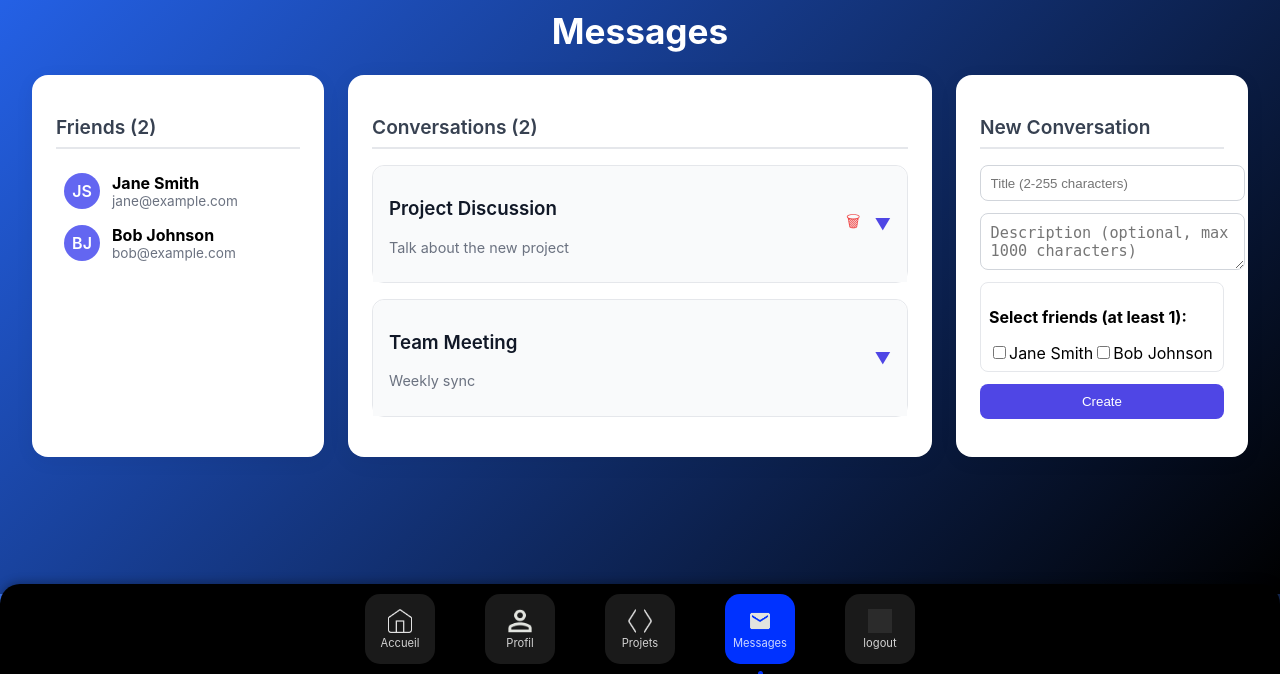
Test: Messages Component › Gestion des conversations › affiche les messages de la bonne conversation
Click the heading "Project Discussion" at (479, 209), box [389, 197, 569, 220]
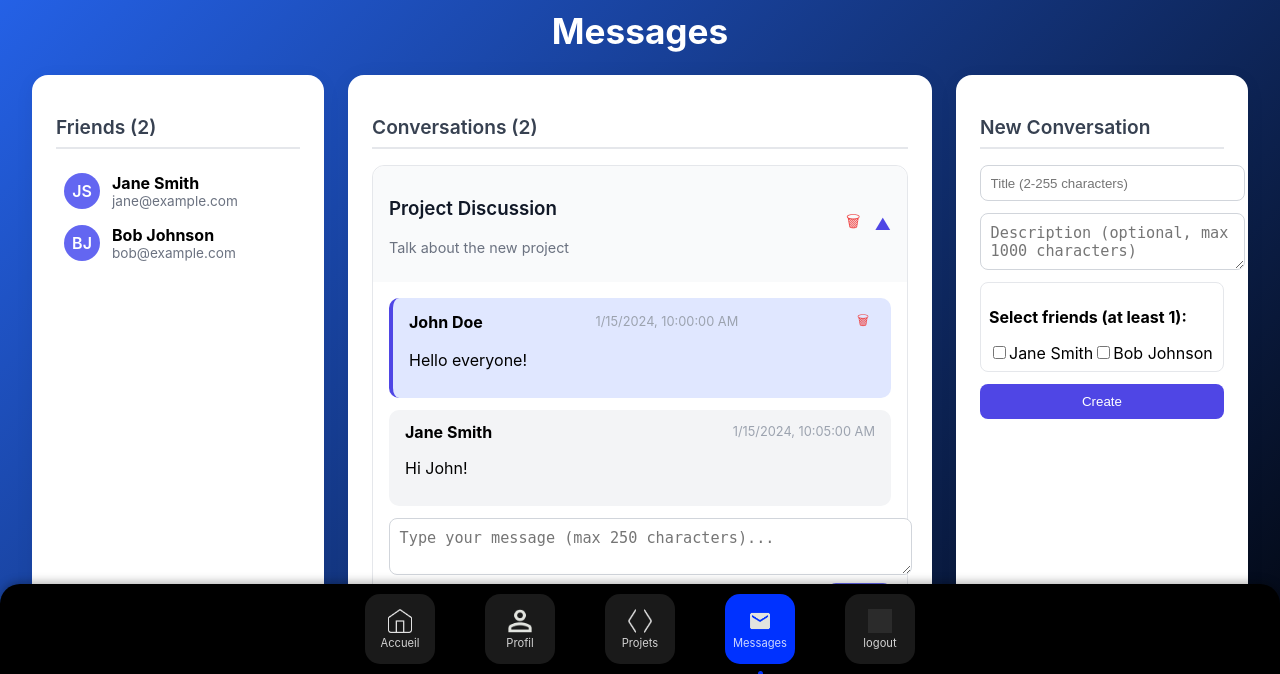
expect the text "See you tomorrow" is not shown: met
expect the text "Hello everyone!" is shown: met, box [409, 350, 527, 370]
expect the text "Hi John!" is shown: met, box [405, 458, 468, 478]
Scroll
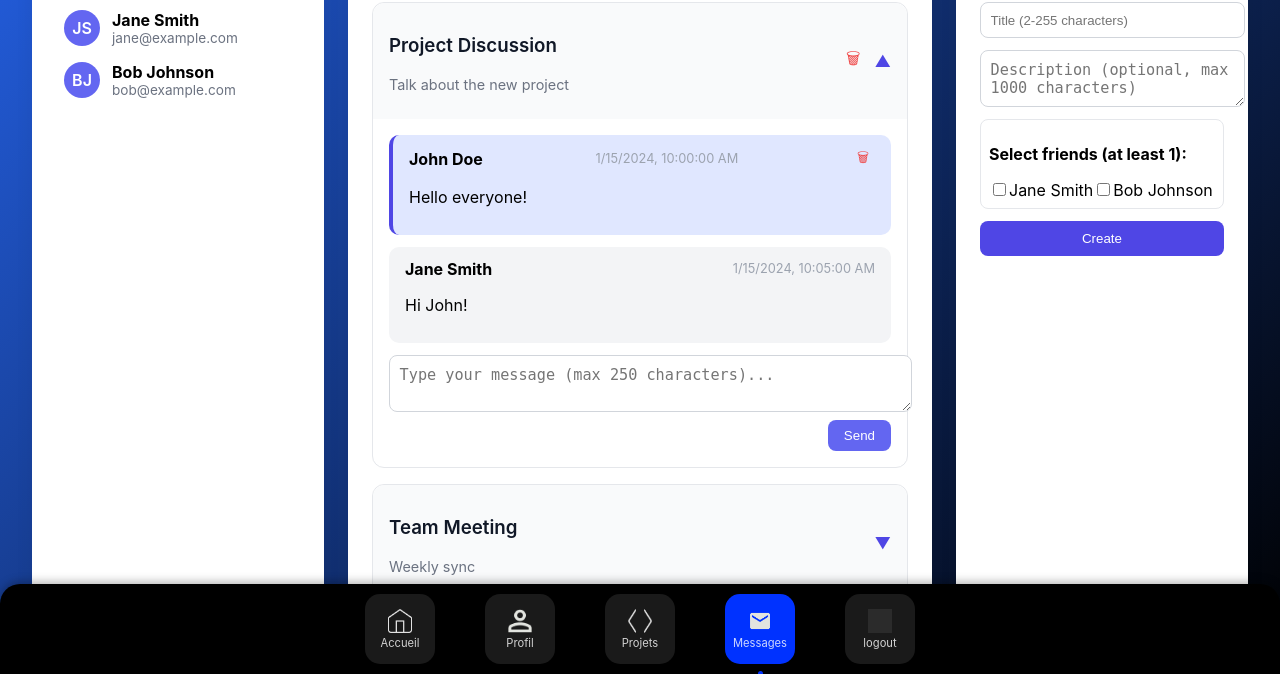
Click the heading "Team Meeting" at (453, 528), box [389, 516, 517, 539]
(page scrolled)
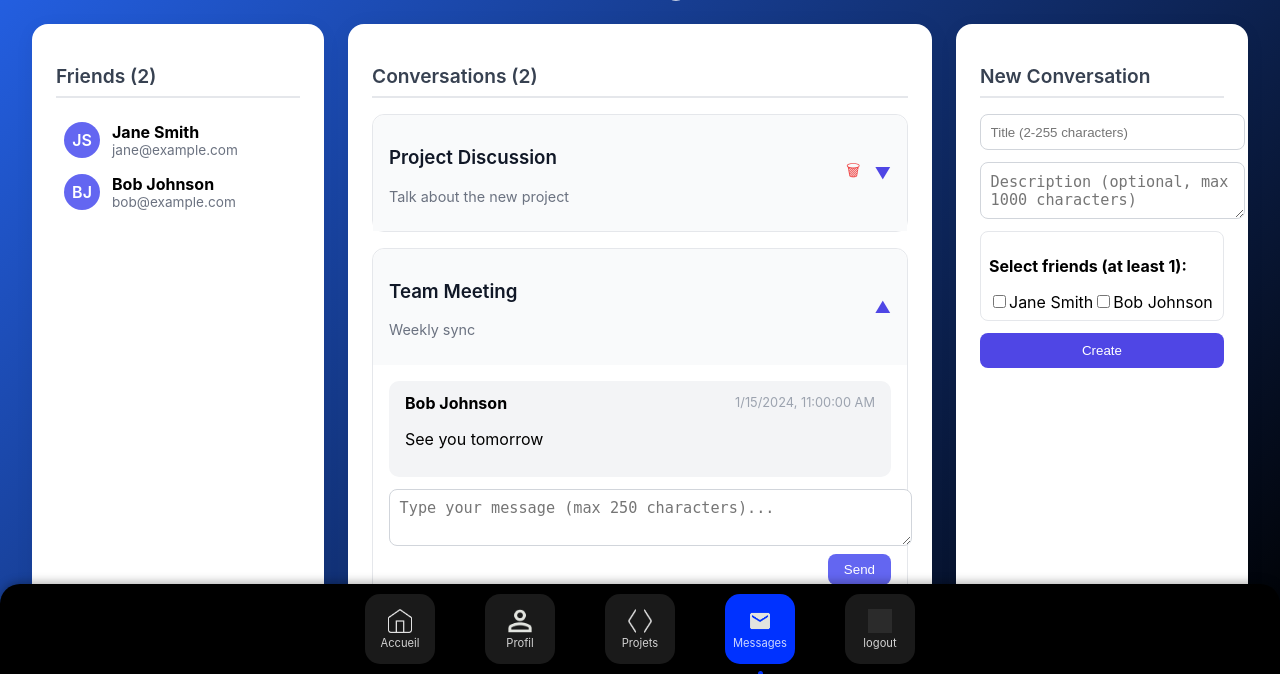
expect the text "See you tomorrow" is shown: met, box [405, 429, 543, 449]
expect the text "Hello everyone!" is gone: met
